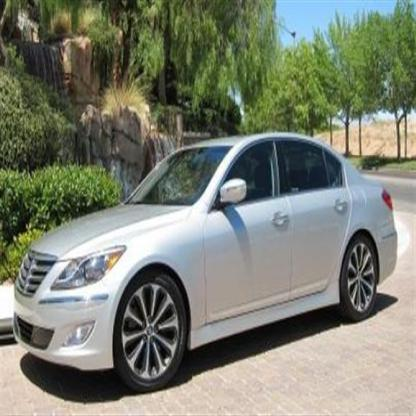Vehicle: (14, 134, 400, 388)
